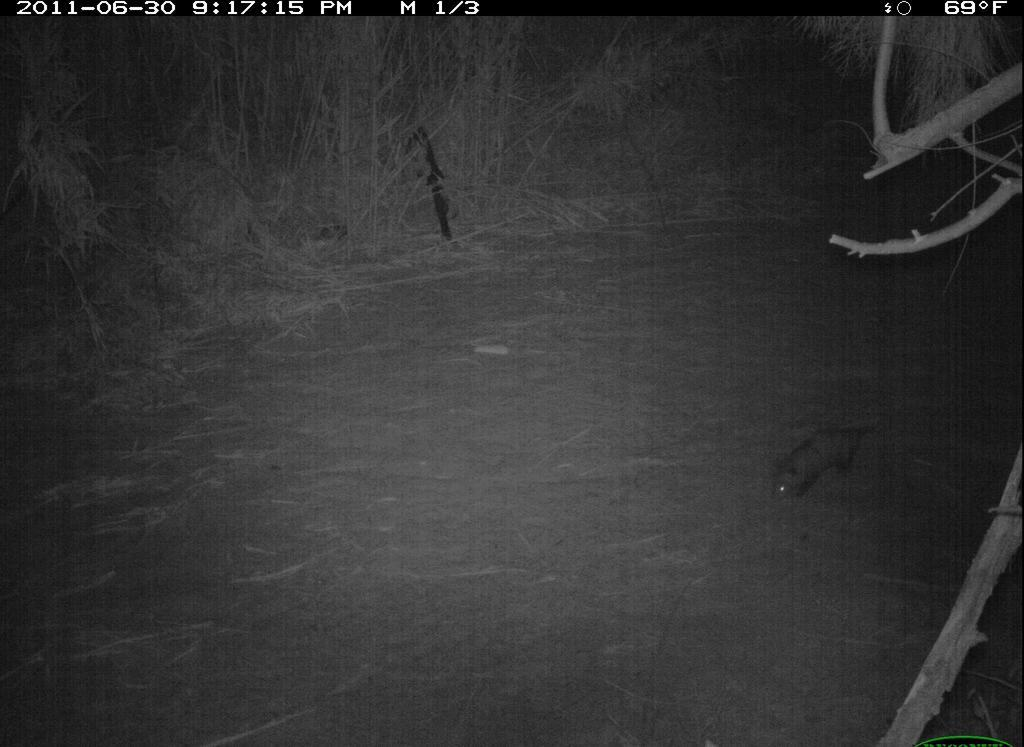opossum: (766, 406, 899, 524)
